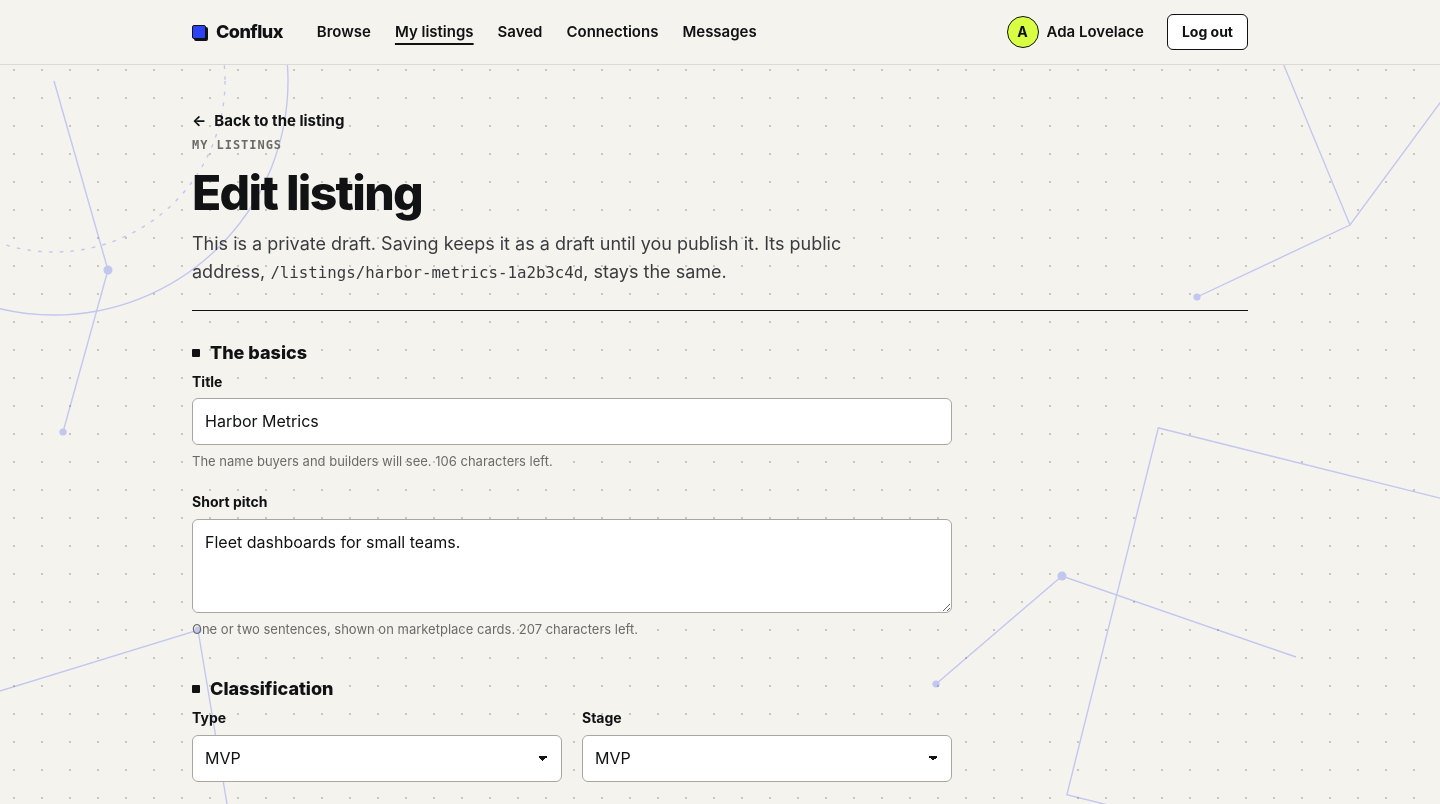
Test: Edit listing › saves a draft with PUT and it stays a DRAFT
The width and height of the screenshot is (1440, 804).
Replace the text in the field labelled "Title" with "Harbor Metrics Pro " at (572, 422), box [192,398,952,445]
(page scrolled)
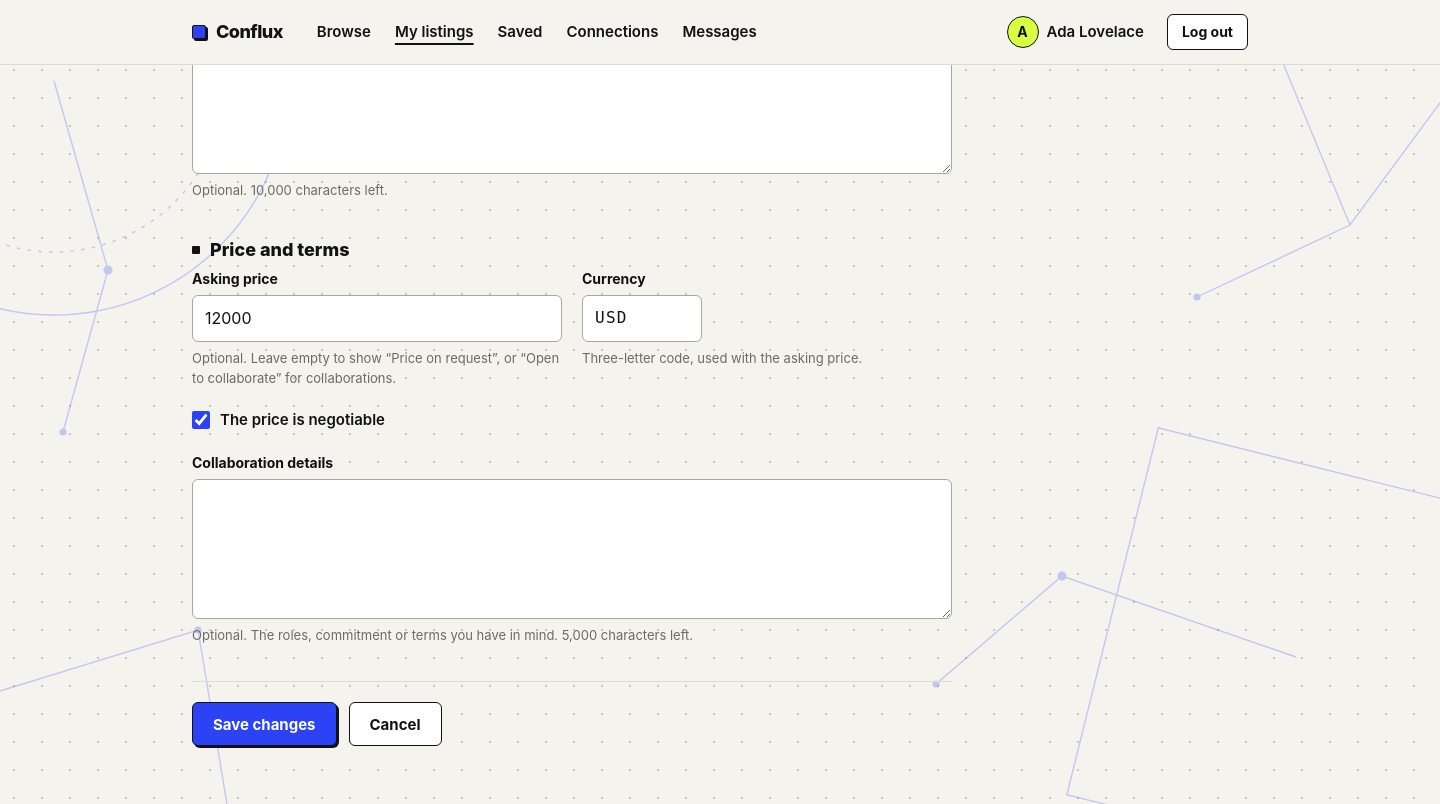
Click the button "Save changes" at (264, 724), box [192,702,336,746]
(page scrolled)
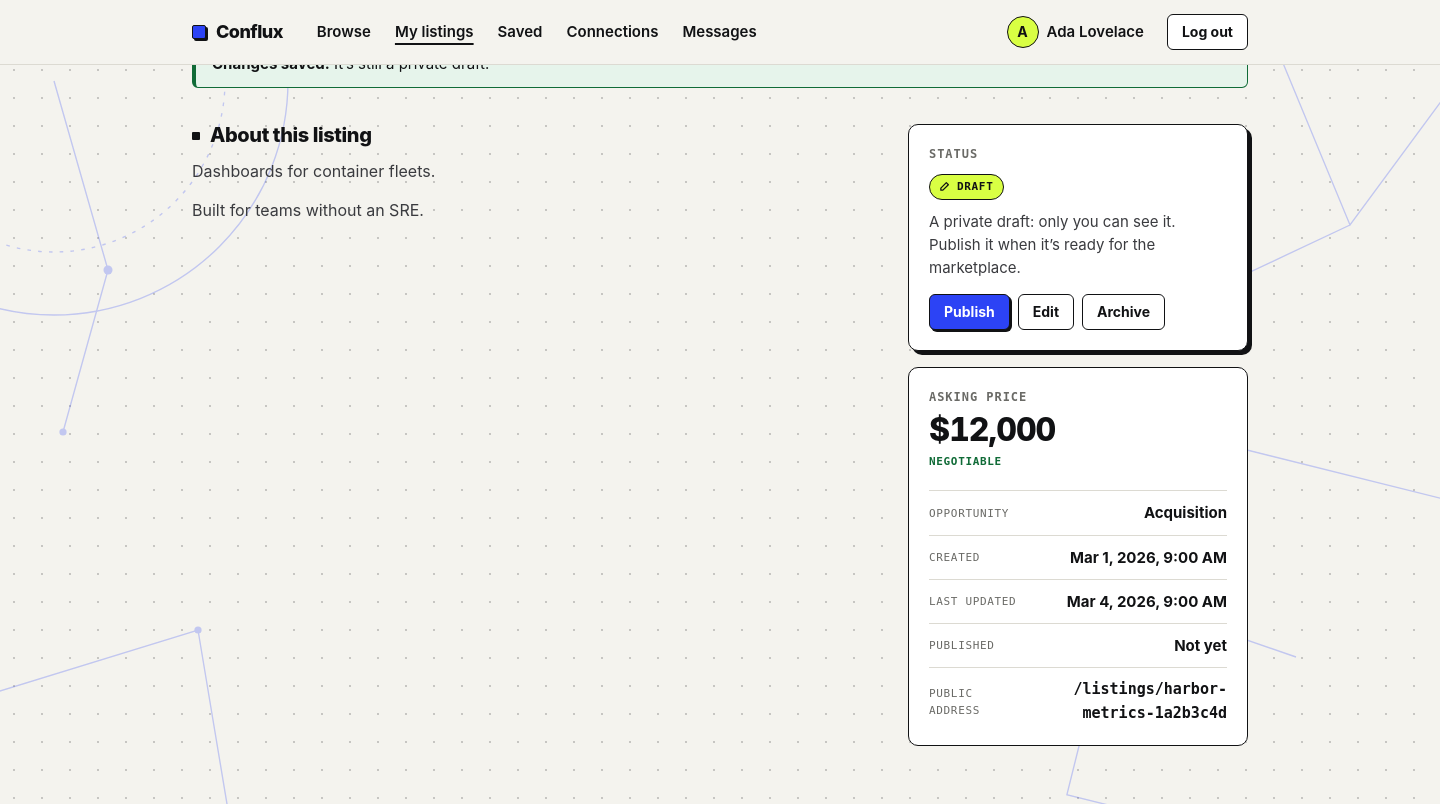
Result: the text "Changes saved." shows "still a private draft" at [334,54,489,73]
Result: the text "Draft" is shown at [929,174,1004,200]
